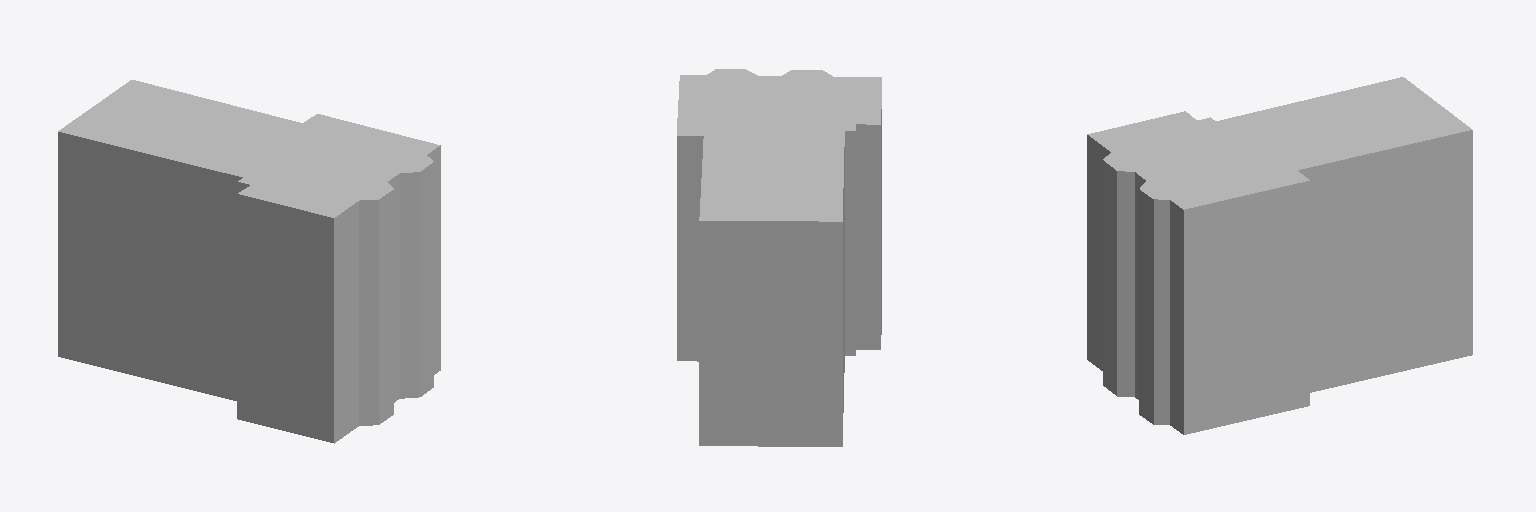
File: multifamily_10.obj
The picture shows the model from 3 angles: view 1: azimuth 30°, elevation 25°; view 2: azimuth 150°, elevation 25°; view 3: azimuth 270°, elevation 25°; orthographic projection.
Visible parts, largest first — view 1: object_1; view 2: object_1; view 3: object_1.
Boxes of the visible parts, <box> form: object_1: <box>58,80,440,443</box>; object_1: <box>677,69,881,446</box>; object_1: <box>1087,77,1472,434</box>.
Size of the model in its own units: 75.94 by 60 by 93.